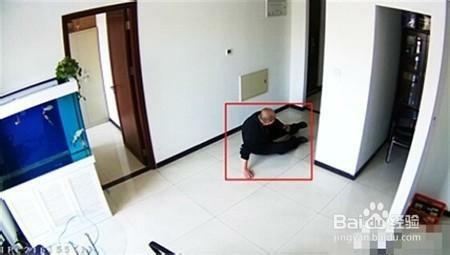fall: (234, 104, 313, 175)
